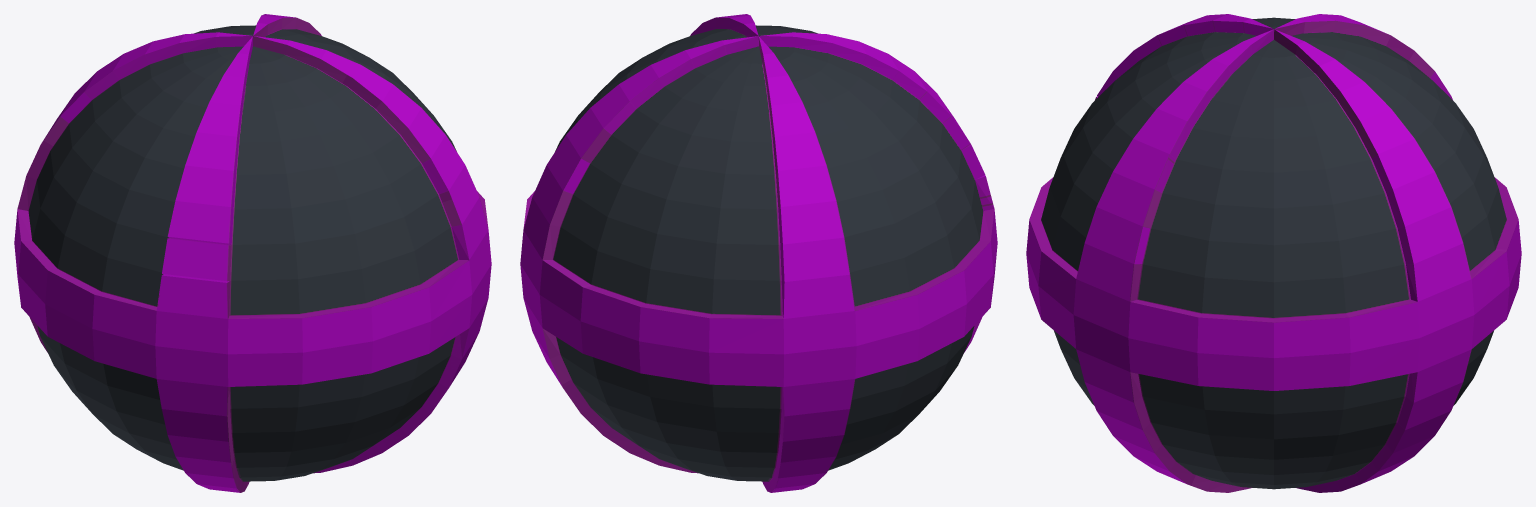
Rendered from enemyLine.fbx.
3 views of the same model, side by side, from view 1: azimuth 30°, elevation 25°; view 2: azimuth 150°, elevation 25°; view 3: azimuth 270°, elevation 25° (orthographic). The views are drawn at different scales.
Visible parts, largest first — view 1: pSphere1; view 2: pSphere1; view 3: pSphere1.
Part boxes in pixels (box(x1,y1,x2,y2)): pSphere1: box(14, 14, 491, 492); pSphere1: box(520, 14, 997, 492); pSphere1: box(1026, 14, 1521, 492).
Bounding box in the file's own units: 1.05 × 1.05 × 1.05.
1 material, 1 textured.
